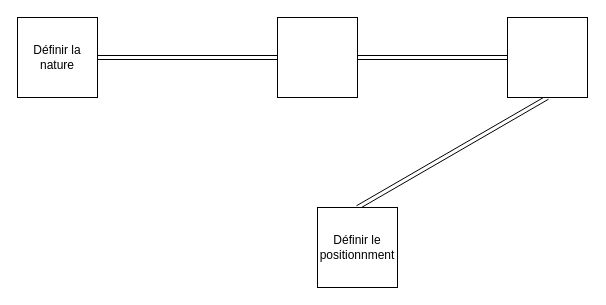
Image size: 606x305. Some labels were removed from this diagram. Each missing label, with the box of its shape:
Analyser l'nevirronement: (506, 16, 588, 98)
Évaluer les influences: (276, 16, 358, 98)
